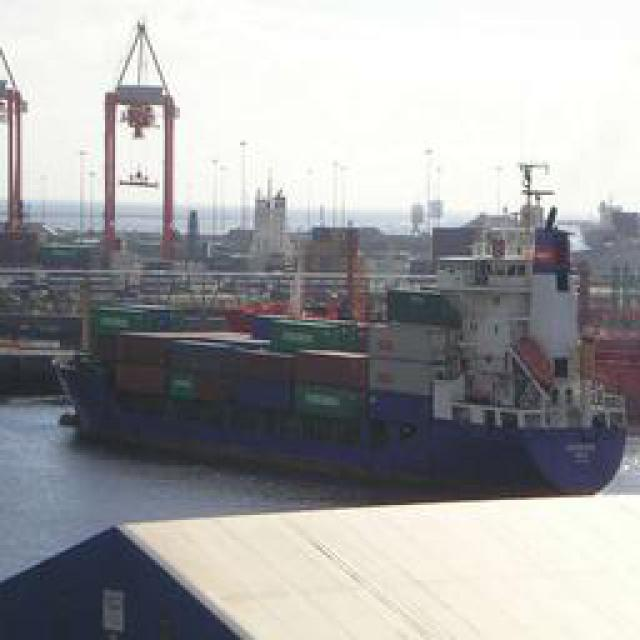Ship: (50, 317, 618, 497)
